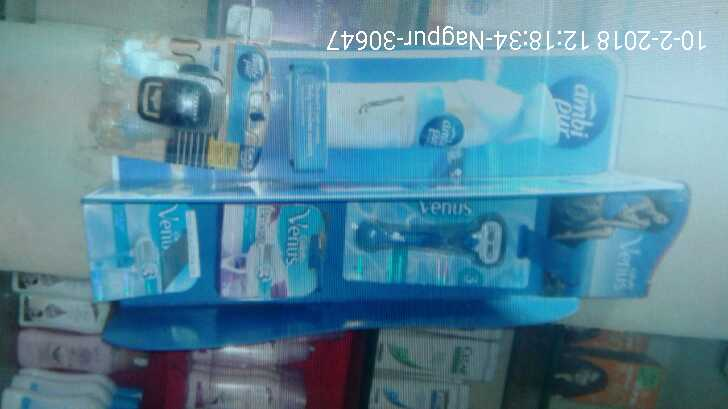beauty: (342, 204, 540, 295), (218, 203, 327, 305), (83, 207, 200, 301)
home: (326, 78, 564, 164), (91, 52, 261, 172)
